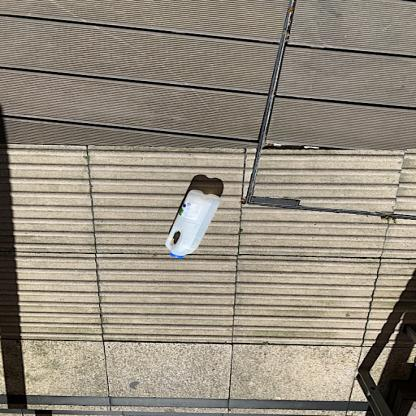trash: (164, 190, 224, 260)
